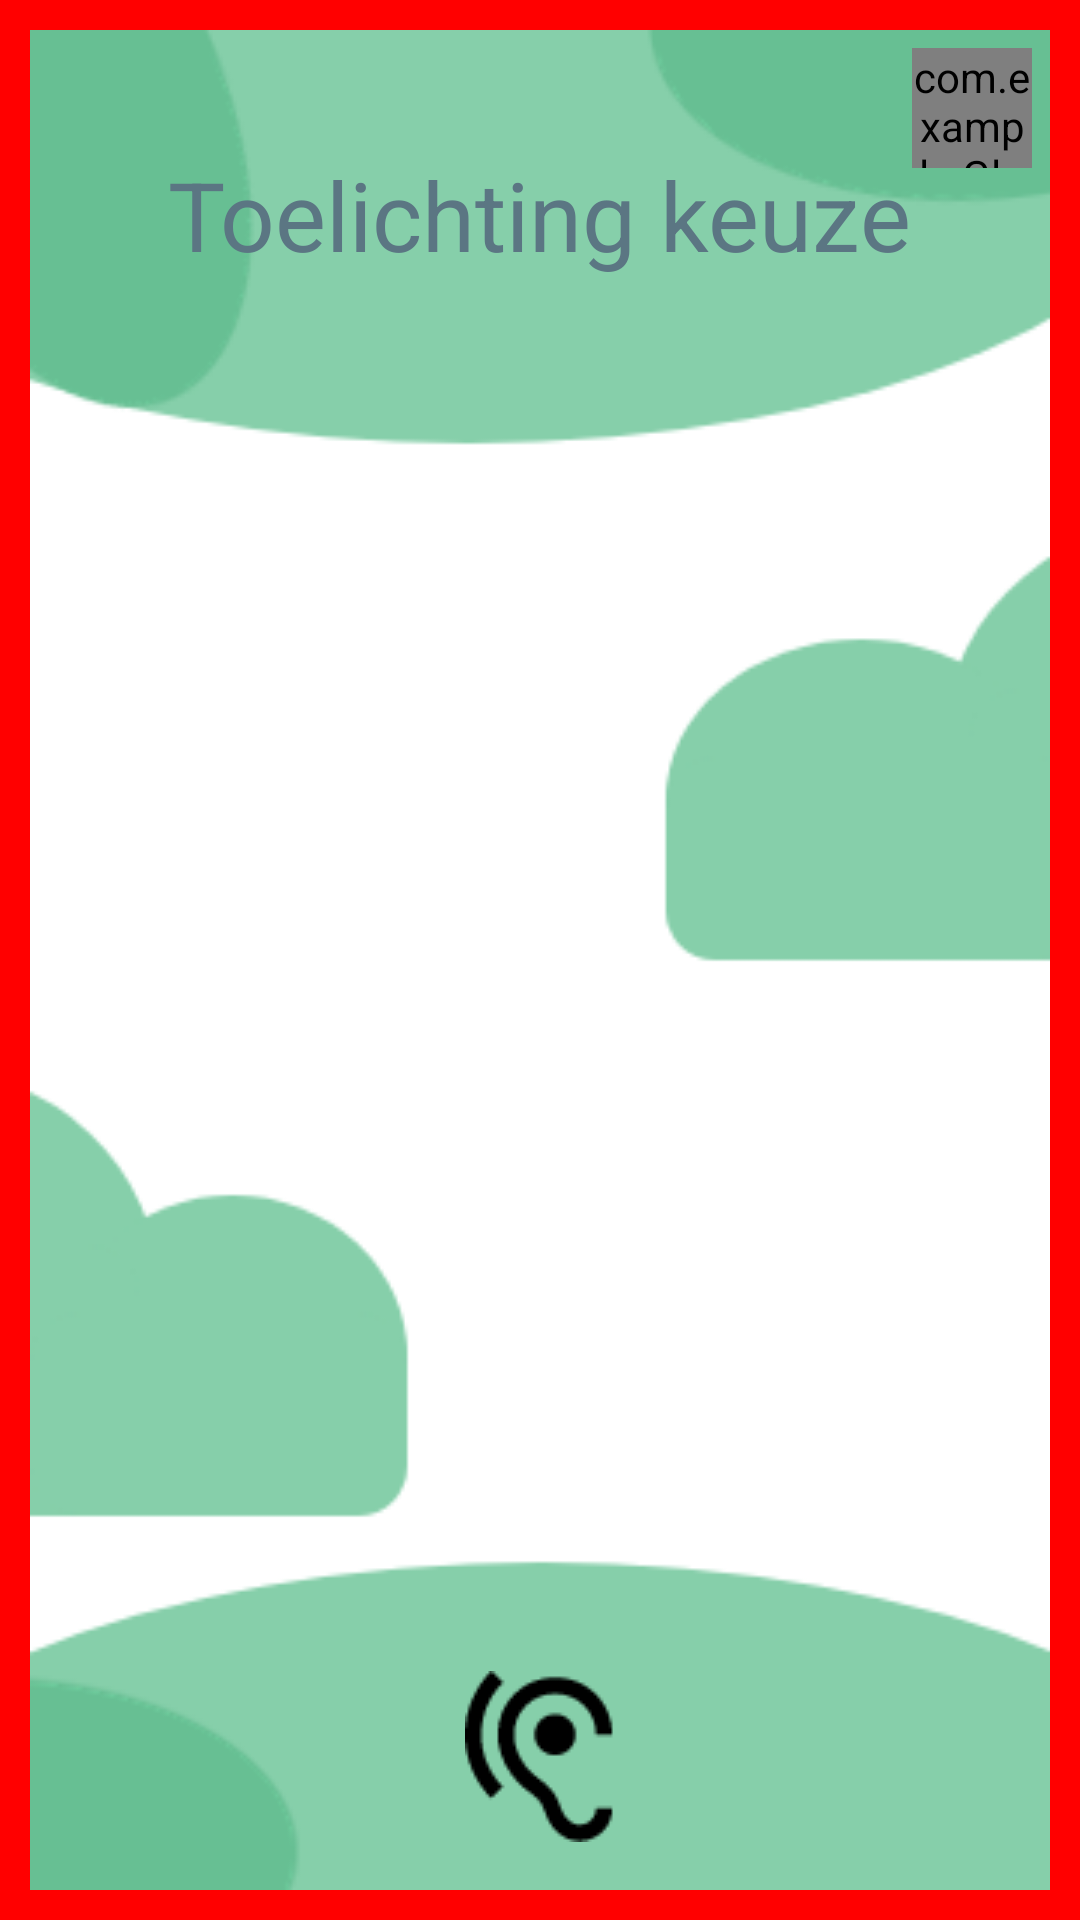

Icon bounding boxes for this 1080*1920 phone screenshot, format [x1,y1,x2,y2]:
pictogram oortje: [465,1671,613,1842]
